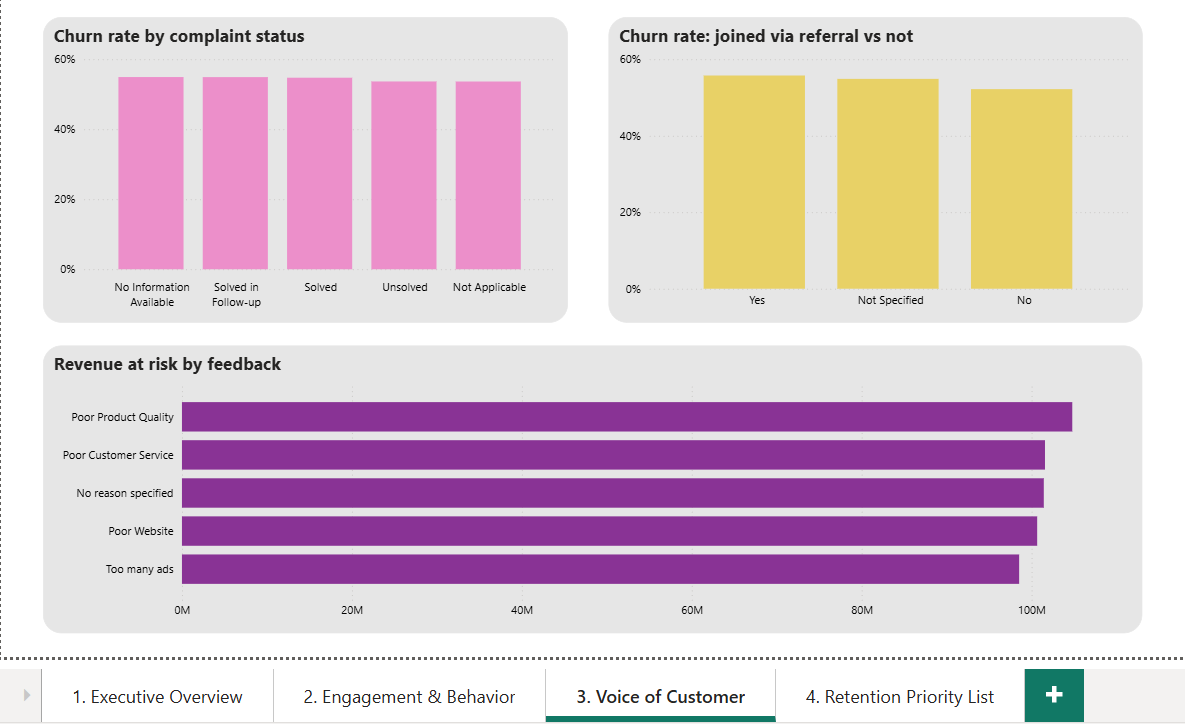

The page's visual inventory and layout, read from the dashboard file:
{"tool":"powerbi","page":{"name":"3. Voice of Customer","canvas":[1280,720],"ordinal":2},"visuals":[{"type":"columnChart","title":"Churn rate by complaint status","fields":{"Y":["churn_db customer_churn.Churn_rate %"],"Category":["churn_db customer_churn.complaint_status"]},"box":[45.3,29.1,566.7,330.3],"z":0},{"type":"columnChart","title":"Churn rate: joined via referral vs not","fields":{"Y":["churn_db customer_churn.Churn_rate %"],"Category":["churn_db customer_churn.joined_through_referral"]},"box":[655.8,29.1,576.4,330.3],"z":1000},{"type":"clusteredBarChart","fields":{"Y":["churn_db customer_churn.Revenue at risk"],"Category":["churn_db customer_churn.feedback"]},"box":[45.3,383.8,1186.9,310.9],"z":2000}]}

Visuals, with their boxes on the page's 1280x720 design canvas (x1, y1, x2, y2). These are canvas units, not pixel positions in the 1185x724 screenshot, which may show the page scaled, cropped or inside an application window:
"Churn rate by complaint status" columnChart: 45/29/612/359
"Churn rate: joined via referral vs not" columnChart: 656/29/1232/359
clusteredBarChart - churn_db customer_churn.Revenue at risk x churn_db customer_churn.feedback: 45/384/1232/695
